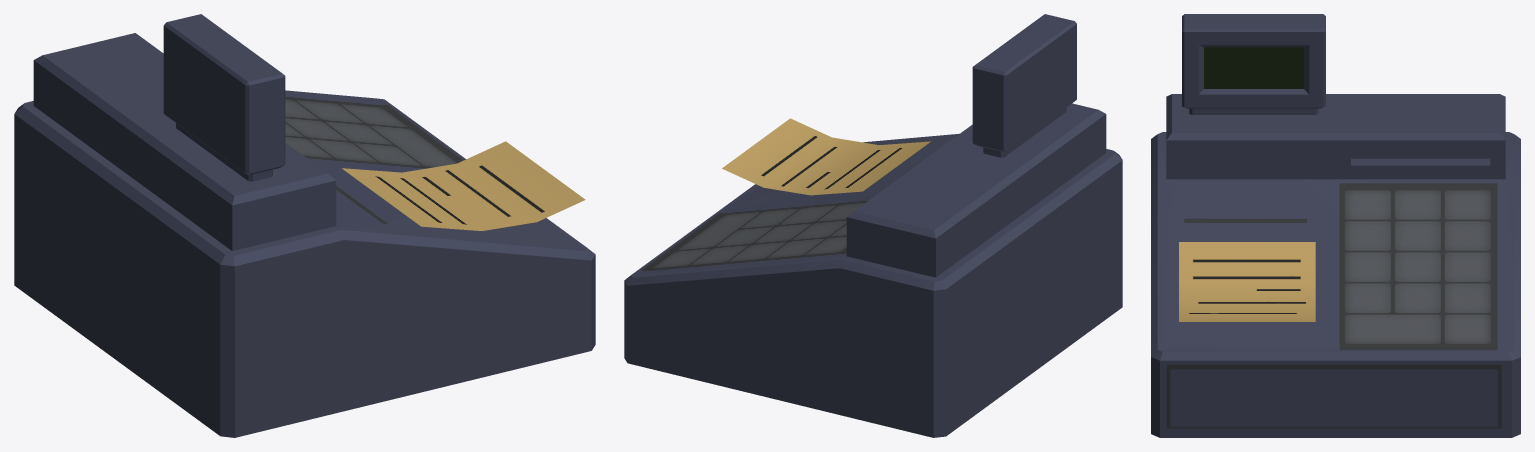
Rendered from New cash register.fbx.
The picture shows the model from 3 angles, left to right: view 1: azimuth 30°, elevation 25°; view 2: azimuth 150°, elevation 25°; view 3: azimuth 270°, elevation 25°; orthographic projection. The views are drawn at different scales.
Parts seen in each view (by area): view 1: New Cash register; view 2: New Cash register; view 3: New Cash register.
Boxes of the visible parts, left/top/right/bottom form: New Cash register: left=14, top=14, right=595, bottom=437; New Cash register: left=624, top=14, right=1122, bottom=437; New Cash register: left=1151, top=14, right=1520, bottom=437.
Bounding box in the file's own units: 1.48 × 1.25 × 1.47.
1 material, 1 textured.
